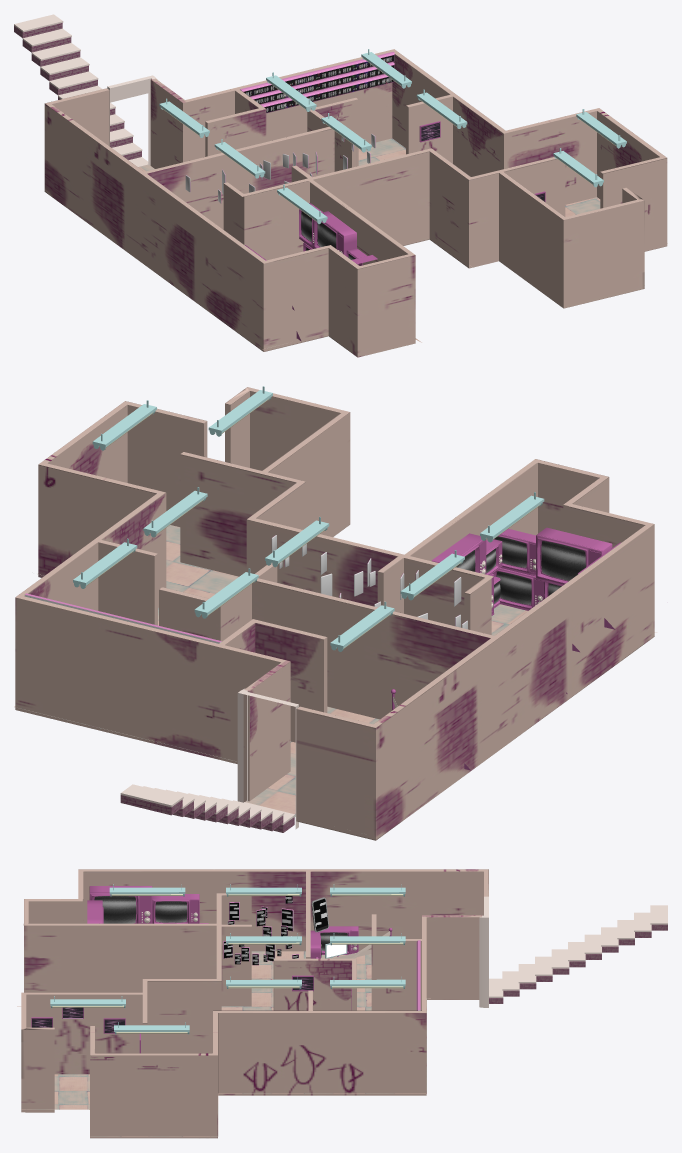
File: room2.glb
3 renders of one model, top to bottom at view 1: azimuth 30°, elevation 25°; view 2: azimuth 150°, elevation 25°; view 3: azimuth 270°, elevation 25°, orthographic. The views are drawn at different scales.
Parts seen in each view (by area): view 1: murs.2, sol-Mat.22, Cube, TV_low-pourpre, Cube.1-Mat.19, Cube.2-Mat.19, Cube-Mat.19, Cube.1-Mat.3, Cube-Mat.3, Cube.2-Mat.3, neons-Bleu, neons.7-Bleu (+5 smaller); view 2: murs.2, sol-Mat.22, TV_low-pourpre (×4), Screen_low (×3), Cube, neons.1-Bleu, neons.6-Bleu, neons.5-Bleu, neons.8-Bleu, neons.3-Bleu, neons-Bleu, neons.7-Bleu (+1 smaller); view 3: murs.2, sol-Mat.22, TV_low-pourpre (×3), Screen_low (×2), Cube, neons.6-Bleu, neons.1-Bleu, neons.5-Bleu, neons.7-Bleu, neons.8-Bleu, neons.3-Bleu, neons-Bleu (+2 smaller).
Boxes of the visible parts, x1,y1,x2,y2 form: murs.2: (44,49,667,357); sol-Mat.22: (138,138,667,349); Cube: (107,75,157,165); TV_low-pourpre: (314,211,356,256); Cube.1-Mat.19: (243,55,394,96); Cube.2-Mat.19: (264,77,394,112); Cube-Mat.19: (253,65,394,103); Cube.1-Mat.3: (240,51,394,96); Cube-Mat.3: (250,62,394,104); Cube.2-Mat.3: (261,74,394,113); neons-Bleu: (266,72,316,111); neons.7-Bleu: (553,148,603,187); murs.2: (15,387,654,840); sol-Mat.22: (14,525,656,816); TV_low-pourpre (×4): (431,527,612,610); Screen_low (×3): (494,536,585,604); Cube: (237,688,298,829); neons.1-Bleu: (400,550,464,600); neons.6-Bleu: (480,492,544,542); neons.5-Bleu: (73,538,137,588); neons.8-Bleu: (92,400,156,450); neons.3-Bleu: (265,517,329,567); neons-Bleu: (194,568,258,618); neons.7-Bleu: (208,386,272,436); murs.2: (21,869,488,1138); sol-Mat.22: (17,951,430,1136); TV_low-pourpre (×3): (89,886,358,954); Screen_low (×2): (94,896,187,923); Cube: (479,896,488,1007); neons.6-Bleu: (109,884,185,896); neons.1-Bleu: (226,884,301,896); neons.5-Bleu: (330,977,405,988); neons.7-Bleu: (50,996,125,1008); neons.8-Bleu: (114,1022,189,1034); neons.3-Bleu: (226,933,301,945); neons-Bleu: (330,933,405,945).
Bounding box in the file's own units: 14.05 × 3.6 × 19.68.
Materials: 34 (9 with a texture image).
